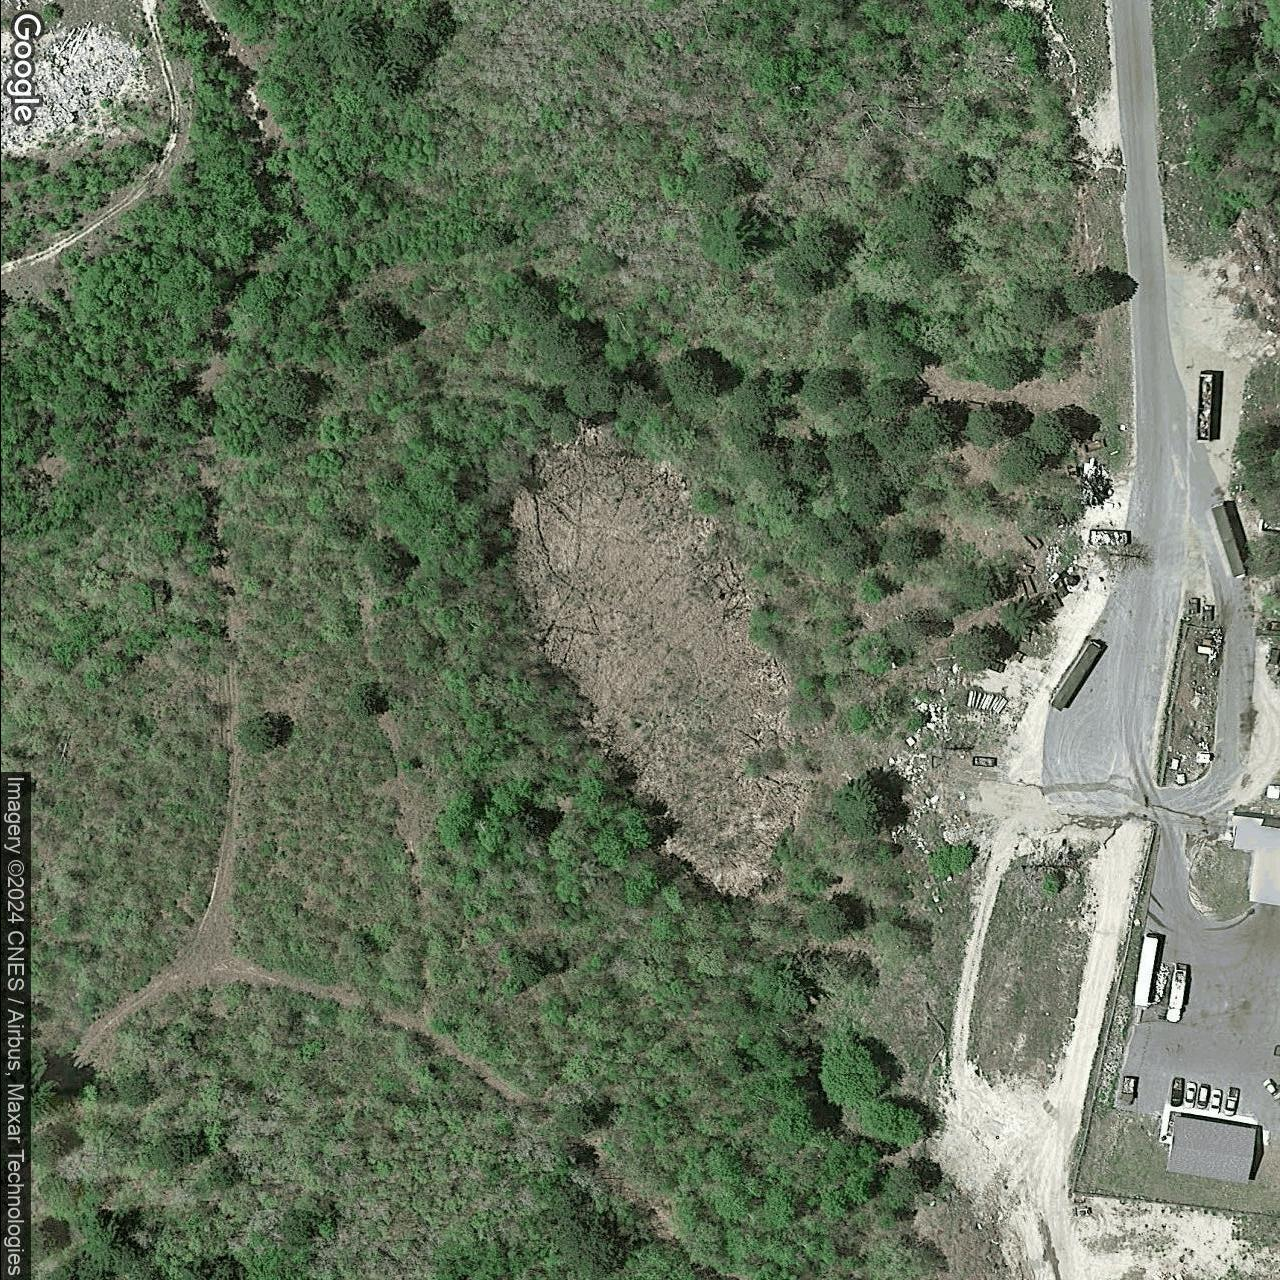Garage: (1163, 1112, 1257, 1187)
House: (1232, 815, 1280, 907)
